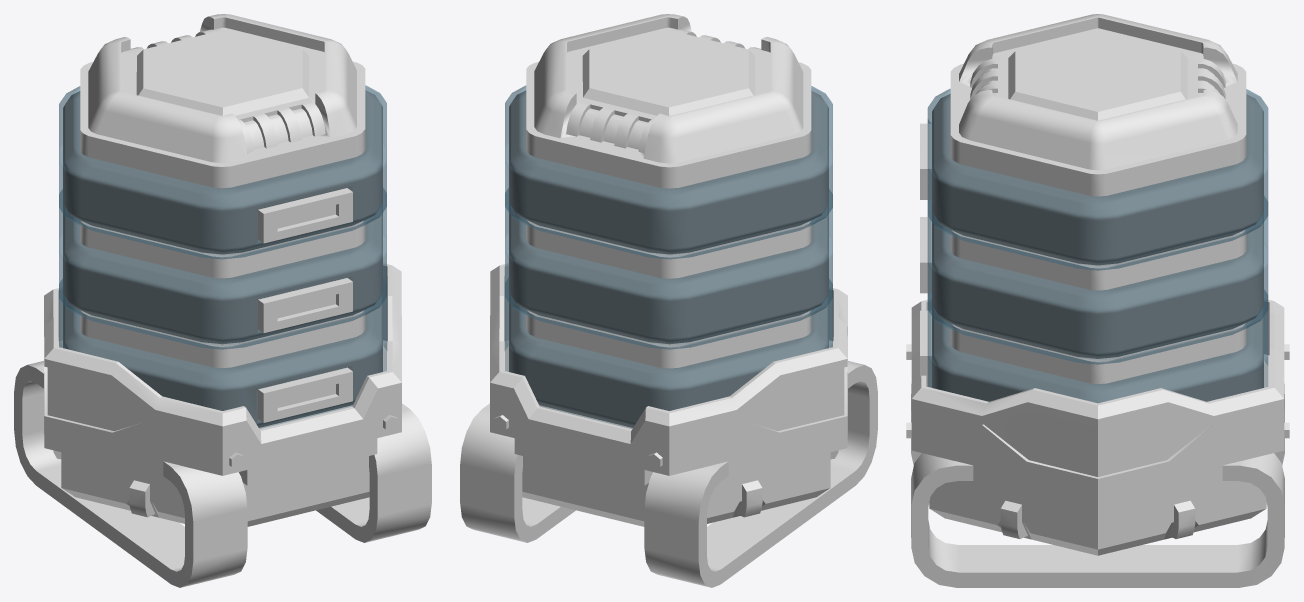
File: obj_interactive_beehive.fbx
3 views of the same model, side by side, from view 1: azimuth 30°, elevation 25°; view 2: azimuth 150°, elevation 25°; view 3: azimuth 270°, elevation 25° (orthographic). The views are drawn at different scales.
Parts seen in each view (by area): view 1: geo_beehive.001, geo_glass.001, geo_beehive.002; view 2: geo_beehive.001, geo_glass.001, geo_beehive.002; view 3: geo_beehive.001, geo_glass.001, geo_beehive.002.
Part boxes in pixels (bbox=[...]): geo_beehive.001: bbox=[14, 14, 431, 587]; geo_glass.001: bbox=[59, 85, 386, 428]; geo_beehive.002: bbox=[63, 90, 382, 427]; geo_beehive.001: bbox=[460, 14, 877, 587]; geo_glass.001: bbox=[505, 85, 832, 428]; geo_beehive.002: bbox=[509, 90, 828, 427]; geo_beehive.001: bbox=[906, 14, 1289, 587]; geo_glass.001: bbox=[927, 89, 1268, 402]; geo_beehive.002: bbox=[932, 94, 1263, 403].
Bounding box in the file's own units: 3.52 × 4.13 × 3.13.
